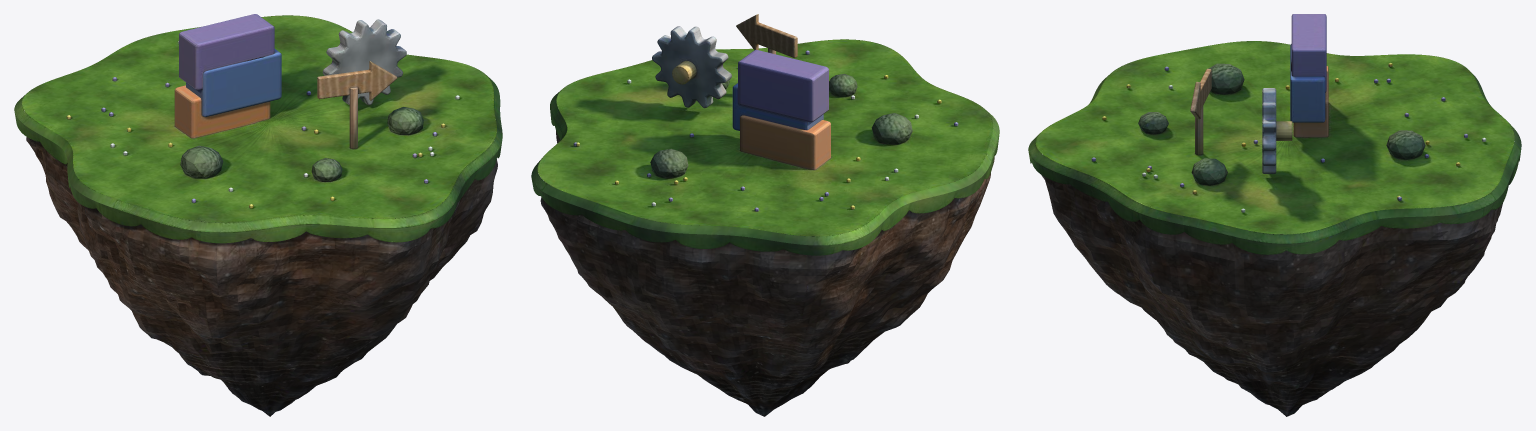
The model's file is islet-algo.glb.
3 renders of one model, left to right at view 1: azimuth 30°, elevation 25°; view 2: azimuth 150°, elevation 25°; view 3: azimuth 270°, elevation 25°, orthographic. The views are drawn at different scales.
Parts seen in each view (by area): view 1: ilot; view 2: ilot; view 3: ilot.
Part boxes in pixels (x1=…): ilot: x1=14, y1=14, x2=502, y2=416; ilot: x1=531, y1=14, x2=999, y2=416; ilot: x1=1028, y1=14, x2=1521, y2=416.
Bounding box in the file's own units: 6.71 × 5.84 × 7.04.
1 material, 1 textured.
